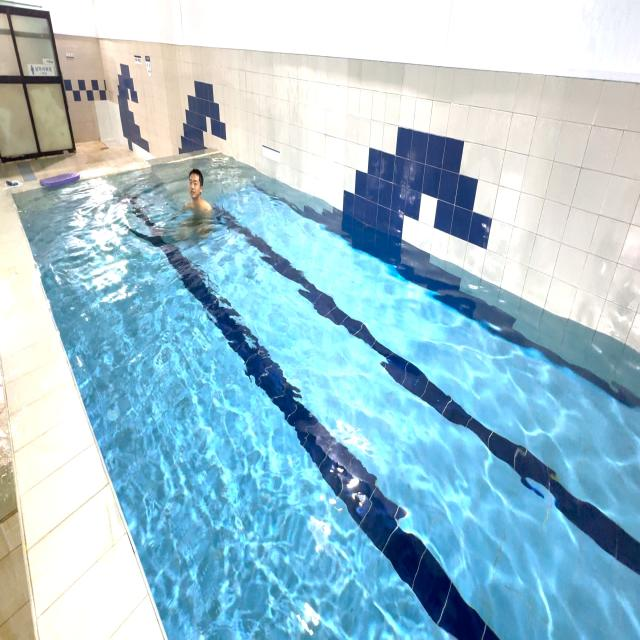Swimming: (172, 152, 223, 250)
